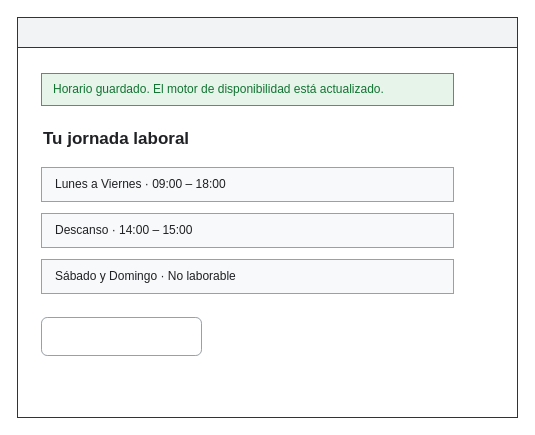
Image size: 535x435. Some labels were removed from this diagram. Each missing label, with the centre of its shape:
Editar horario: the point at 121,336
Panel · Configuración de horarios: the point at 267,32
